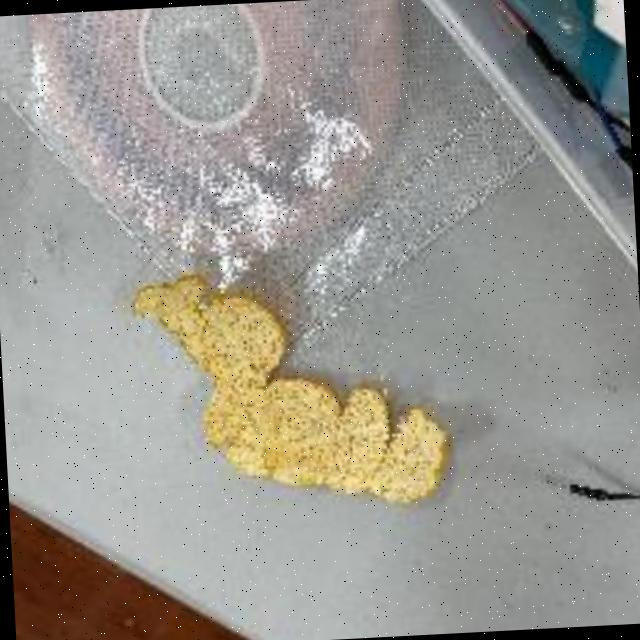orange-peel: (128, 253, 456, 521)
